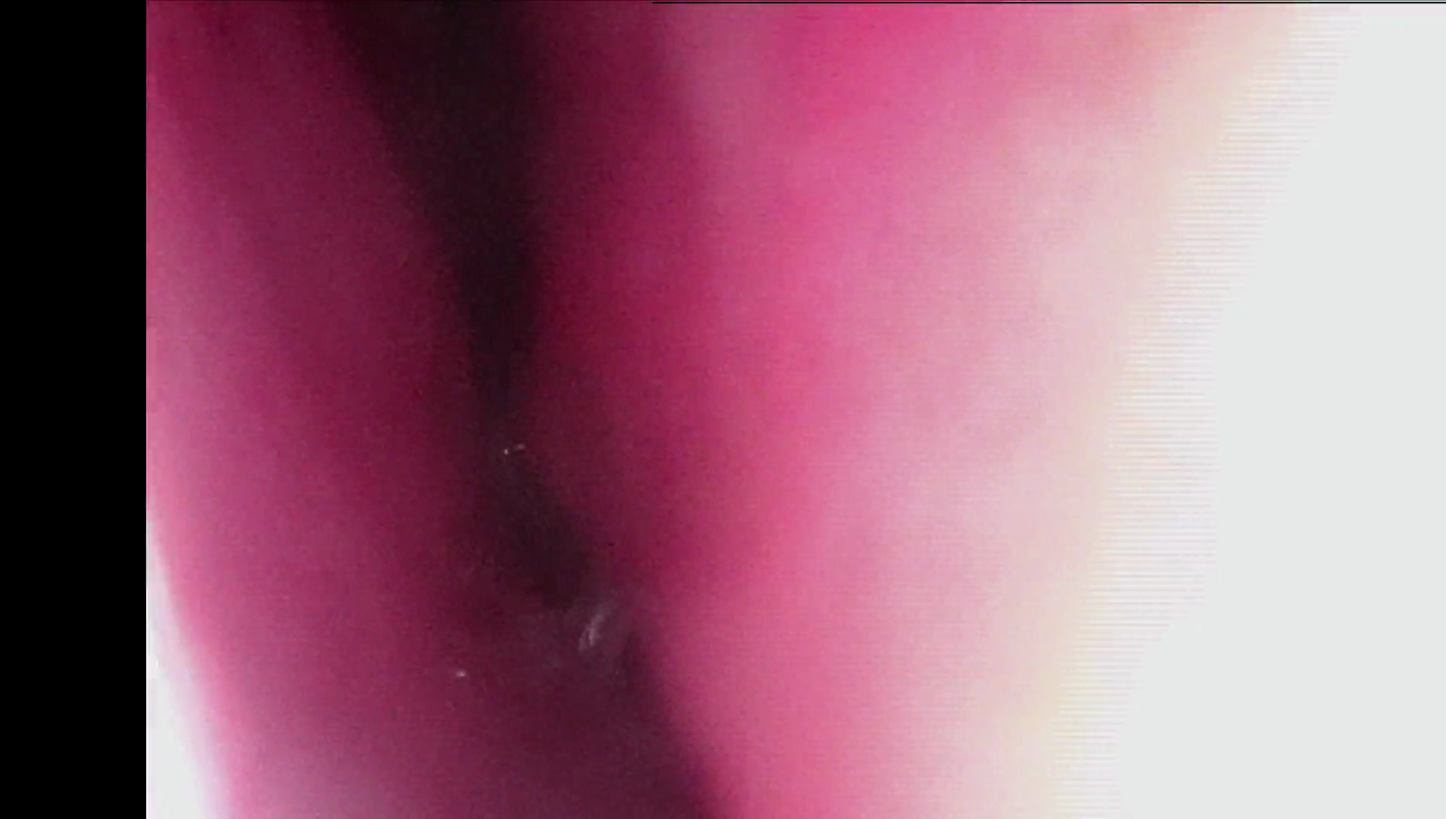close_wall: (740, 11, 1446, 819), (152, 352, 349, 819)
next: (425, 174, 557, 424)
